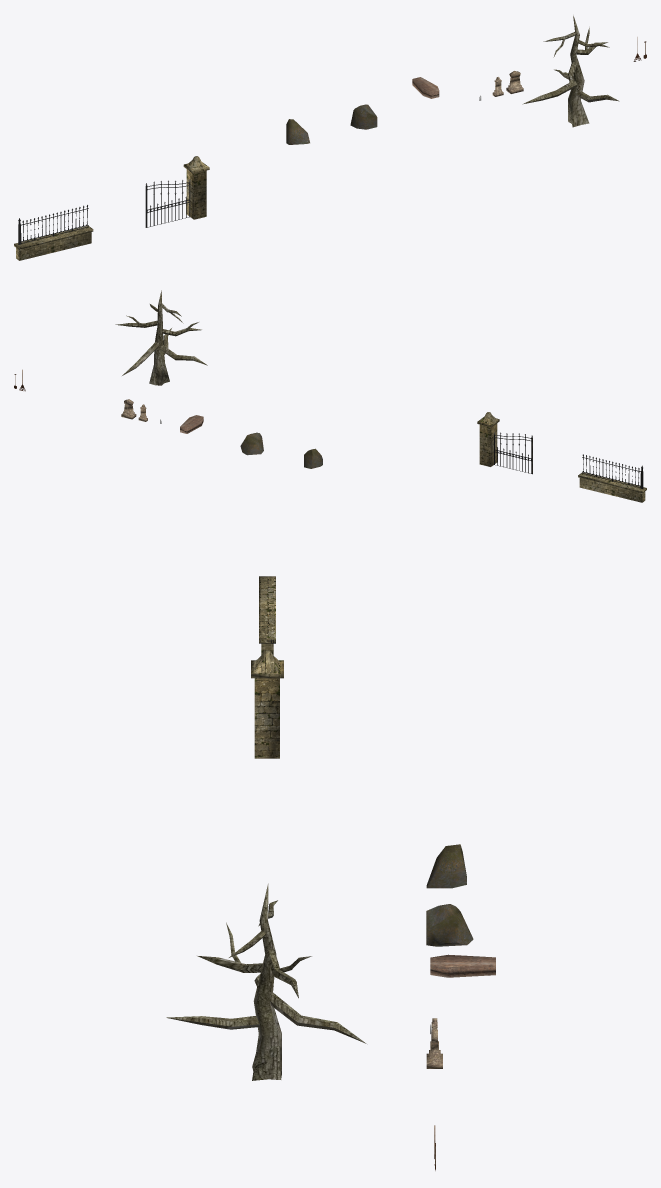
The model's file is PsxGraveyardDemo.fbx.
3 views of the same model, one above another, from view 1: azimuth 30°, elevation 25°; view 2: azimuth 150°, elevation 25°; view 3: azimuth 270°, elevation 25° (orthographic). The views are drawn at different scales.
Parts seen in each view (by area): view 1: arvore1, Fance, Pilar, Gate, Rock1, Rock4, Coffin; view 2: arvore1, Fance, Pilar, Gate, Rock1, Rock4; view 3: arvore1, Pilar, Rock1, Coffin, Rock4, Fance.
Part boxes in pixels (box(x1,y1,x2,y2)): arvore1: box(522, 15, 619, 127); Fance: box(14, 205, 93, 260); Pilar: box(183, 156, 209, 219); Gate: box(145, 180, 190, 227); Rock1: box(350, 104, 377, 129); Rock4: box(286, 119, 309, 144); Coffin: box(412, 77, 439, 98); arvore1: box(115, 290, 207, 385); Fance: box(578, 454, 646, 502); Pilar: box(477, 412, 499, 466); Gate: box(494, 432, 532, 474); Rock1: box(240, 432, 263, 455); Rock4: box(304, 448, 322, 468); arvore1: box(166, 883, 366, 1080); Pilar: box(251, 650, 283, 758); Rock1: box(426, 904, 473, 946); Coffin: box(430, 954, 495, 977); Rock4: box(426, 844, 466, 888); Fance: box(259, 576, 275, 655).
Size of the model in its own units: 7579 by 1172 by 1845.
Materials: 8 (7 with a texture image).
